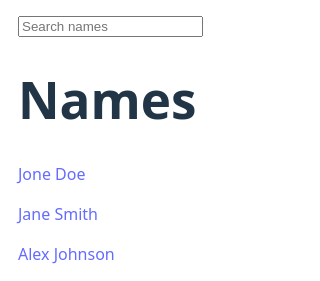
Names Page › filters for moree that 3 characters
Expected: the link "Jone Doe" is shown, x1=18 y1=163 x2=86 y2=185
Type "Alex" into the field with placeholder "Search names".
click(110, 26); type("Alex")  # box x1=18 y1=16 x2=203 y2=37
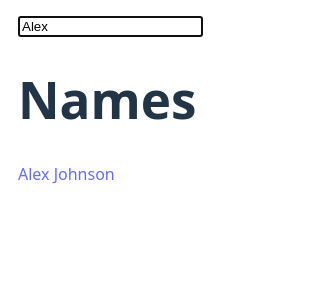
Expected: the link "Alex Johnson" is shown, x1=18 y1=163 x2=115 y2=185
Now the link "Jone Doe" is gone
